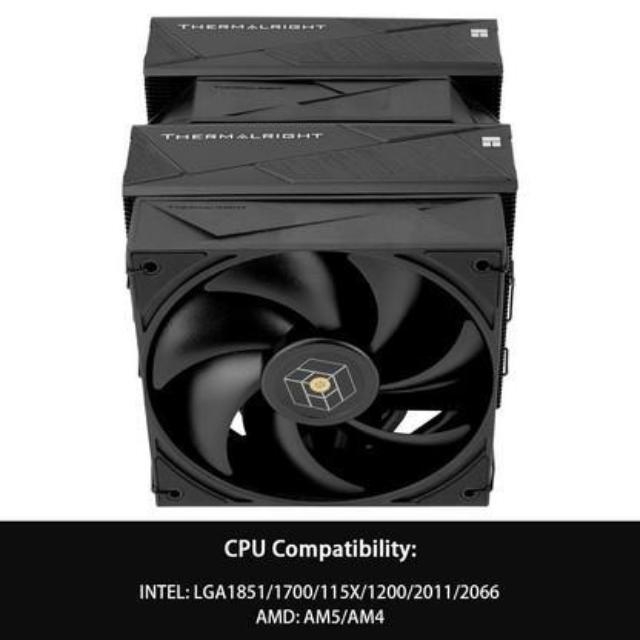CPU_Fan: (124, 8, 510, 514)
